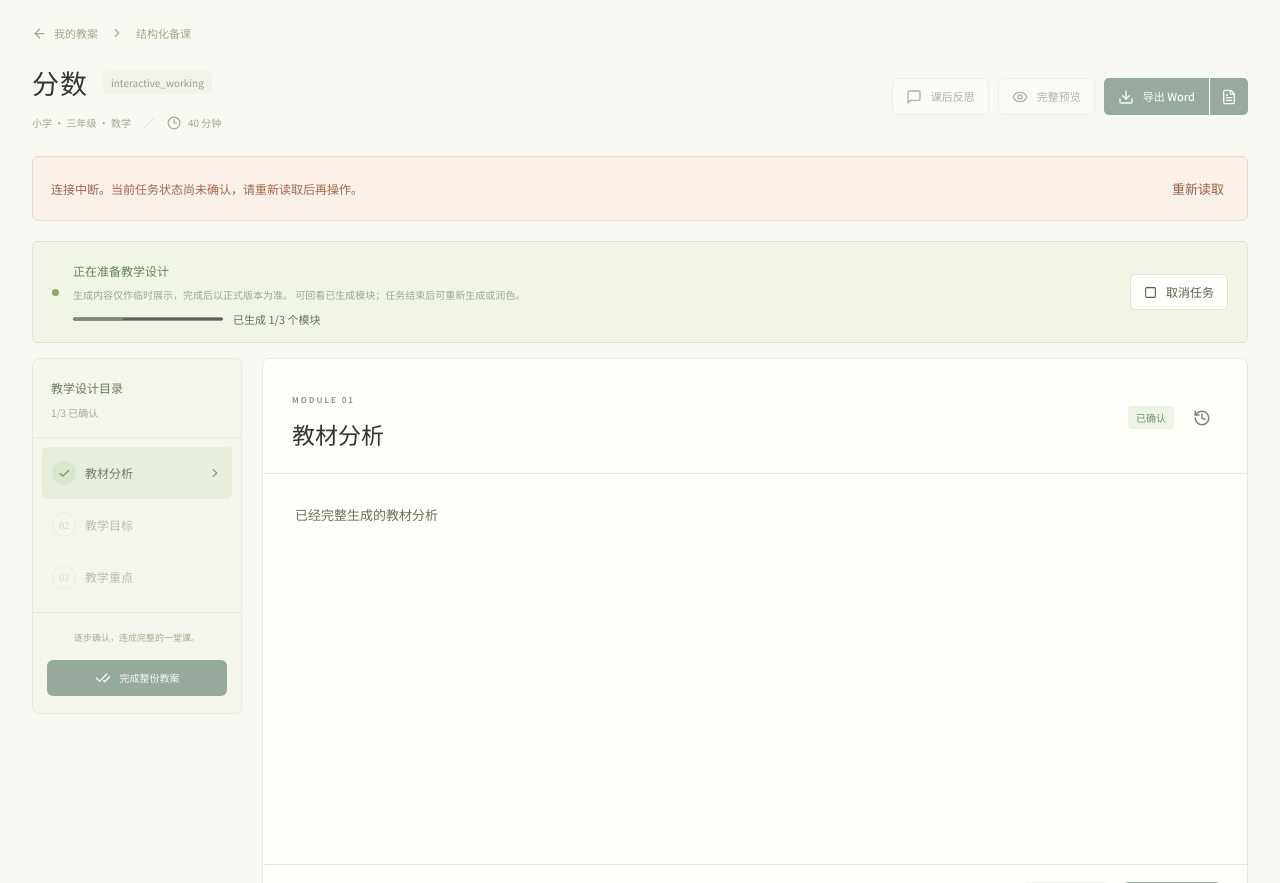
Test: does not turn a lost task connection into permission for another generation
The image size is (1280, 883).
Click the button "重新读取". click: (1198, 189)
box: [1167,172,1229,205]
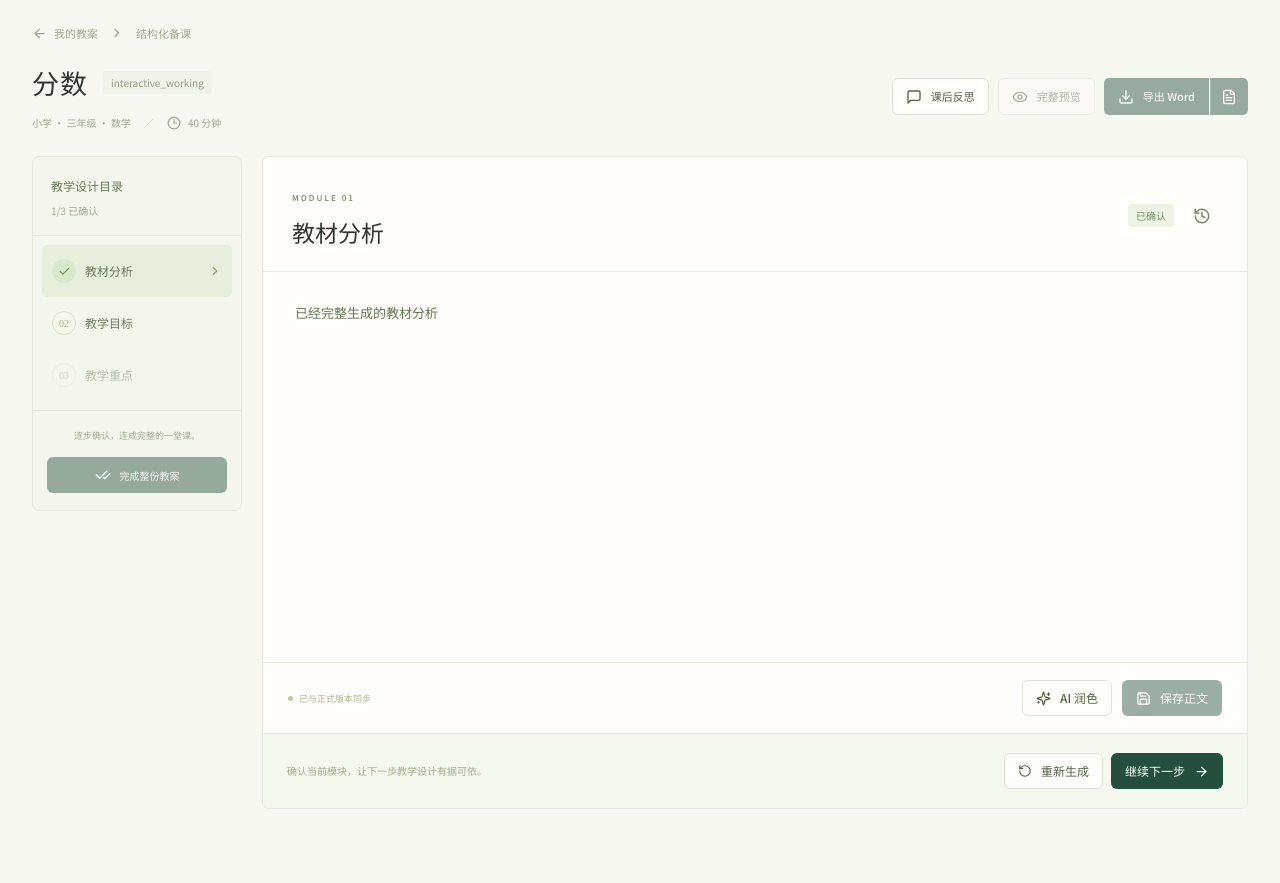
Now the button "重新生成" is enabled, box [1004,753,1103,789]
Now the button "AI 润色" is enabled, box [1022,680,1112,716]
